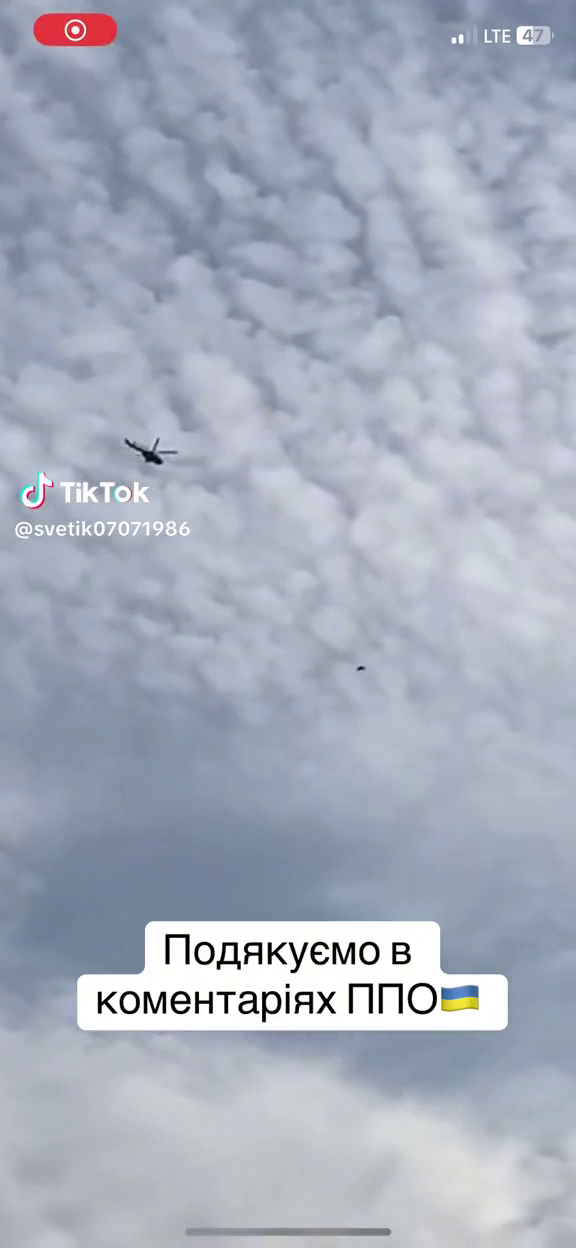not_drone: (120, 430, 182, 470)
